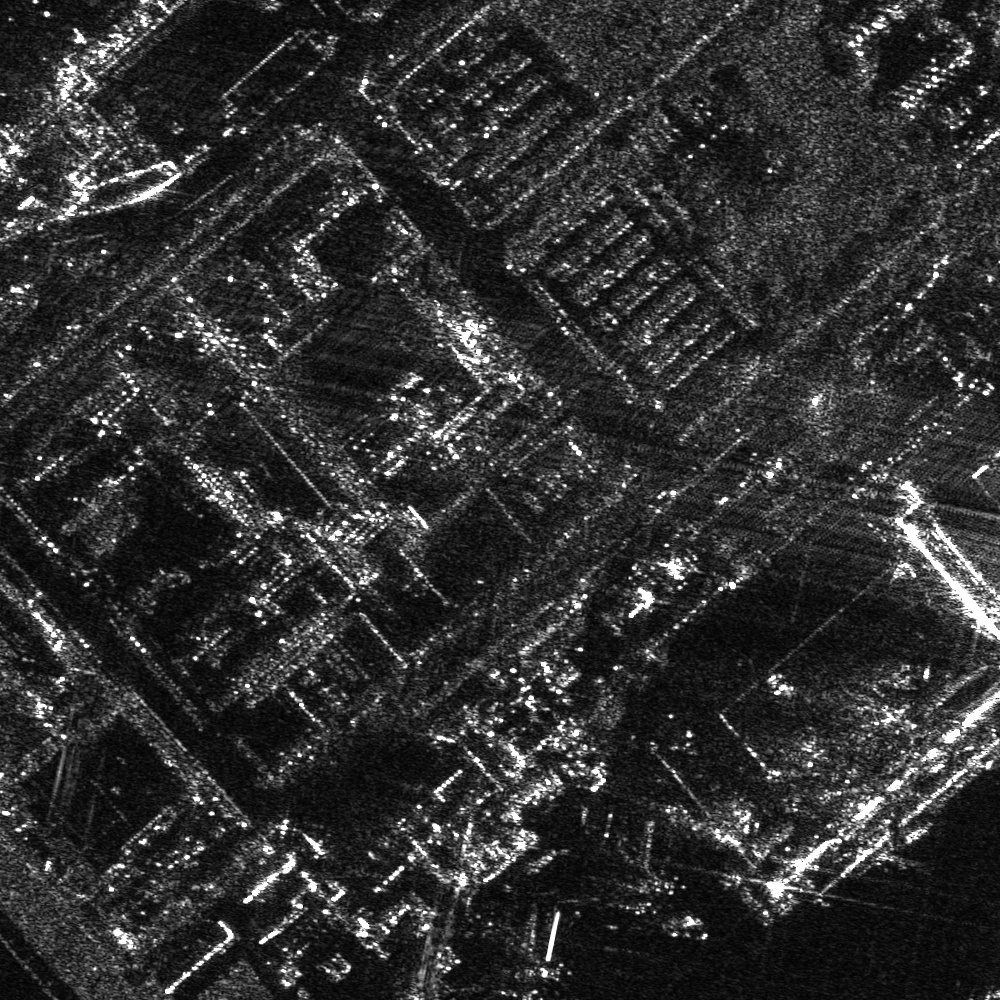Boeing787: (478, 901, 570, 997), (592, 815, 686, 895)
